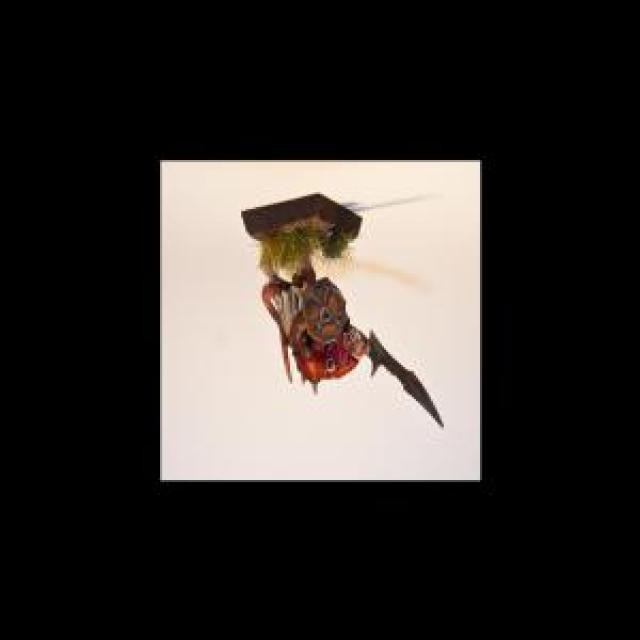knife: (337, 320, 447, 432)
